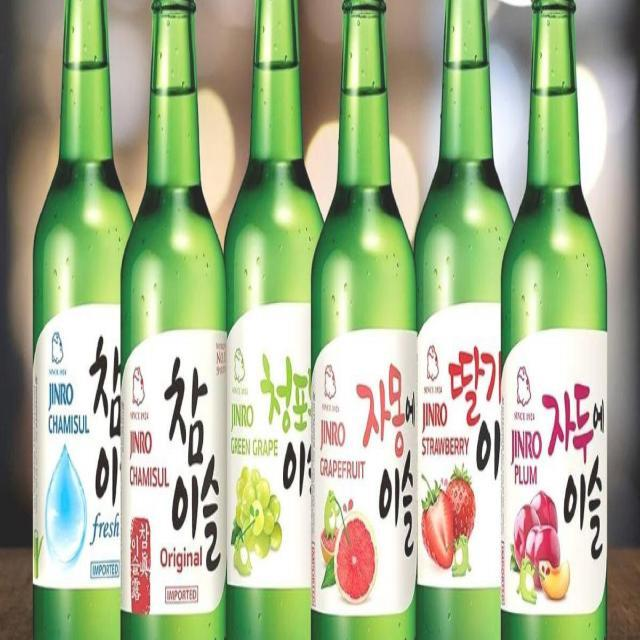soju-bottle: (500, 1, 610, 640), (120, 1, 226, 640), (312, 1, 418, 640), (413, 2, 518, 640), (222, 4, 325, 640), (33, 1, 122, 640)
